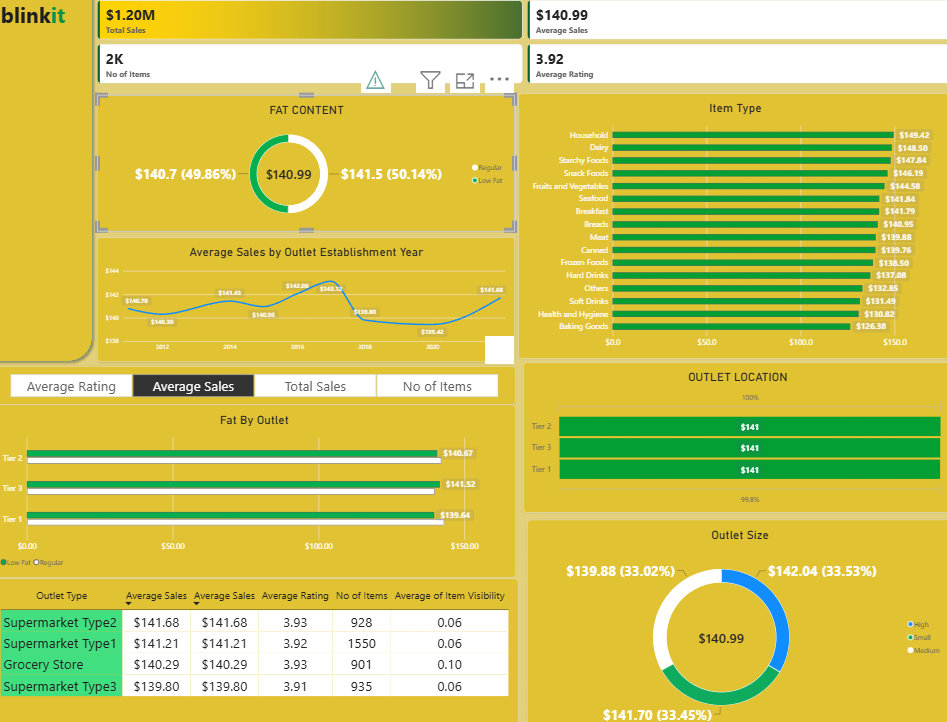

What the dashboard file says about the page in this screenshot:
{"tool":"powerbi","page":{"name":"Page 1","canvas":[1920,1500],"ordinal":0},"visuals":[{"type":"shape","box":[0,0,210,750],"z":0},{"type":"textbox","box":[16.3,16.3,150.2,398.1],"z":1000},{"type":"cardVisual","fields":{"Data":["BlinkIT Grocery Data.Total Sales","BlinkIT Grocery Data.Average Sales","BlinkIT Grocery Data.No of Items","BlinkIT Grocery Data.Average Rating","BlinkIT Grocery Data.Average Sales"]},"box":[209.9,16.3,1713.7,168.3],"z":2000},{"type":"donutChart","title":"FAT CONTENT","fields":{"Category":["BlinkIT Grocery Data.Item Fat Content"],"Y":["BlinkIT Grocery Data.Average Sales"]},"box":[209.6,208.1,837,274.6],"z":3000},{"type":"clusteredBarChart","title":"Item Type","fields":{"Category":["BlinkIT Grocery Data.Item Type"],"Y":["BlinkIT Grocery Data.Average Sales"]},"box":[1052.5,205,867.5,530],"z":4000},{"type":"clusteredBarChart","title":"Fat By Outlet","fields":{"Category":["BlinkIT Grocery Data.Outlet Location Type"],"Series":["BlinkIT Grocery Data.Item Fat Content"],"Y":["BlinkIT Grocery Data.Average Sales"]},"box":[0,828.3,1048.3,346.7],"z":5000},{"type":"lineChart","fields":{"Category":["BlinkIT Grocery Data.Outlet Establishment Year"],"Y":["BlinkIT Grocery Data.Average Sales"]},"box":[209.9,492.2,836.1,249.7],"z":6000},{"type":"donutChart","title":"Outlet Size","fields":{"Category":["BlinkIT Grocery Data.Outlet Size"],"Y":["BlinkIT Grocery Data.Average Sales"]},"box":[1070,1056.7,851.7,428.3],"z":7000},{"type":"funnel","title":"OUTLET LOCATION","fields":{"Category":["BlinkIT Grocery Data.Outlet Location Type"],"Y":["BlinkIT Grocery Data.Average Sales"]},"box":[1063.3,743.3,856.7,300.7],"z":8000},{"type":"tableEx","fields":{"Values":["BlinkIT Grocery Data.Outlet Type","BlinkIT Grocery Data.Average Sales","BlinkIT Grocery Data.Average Sales","BlinkIT Grocery Data.Average Rating","BlinkIT Grocery Data.No of Items","Avg(BlinkIT Grocery Data.Item Visibility)"]},"box":[0,1175,1052.5,325],"z":9000},{"type":"slicer","fields":{"Values":["Parameter 2.Parameter"]},"box":[0,750,1047.5,77.5],"z":9005}]}

Visuals, with their boxes in screenshot pixels (x1, y1, x2, y2), scaled from the page's 1920x1500 canvas onto the 947x722 screenshot:
shape: crop(0, 0, 104, 361)
textbox: crop(8, 8, 82, 199)
cardVisual - BlinkIT Grocery Data.Total Sales x BlinkIT Grocery Data.Average Sales: crop(104, 8, 946, 89)
"FAT CONTENT" donutChart: crop(103, 100, 516, 232)
"Item Type" clusteredBarChart: crop(519, 99, 946, 354)
"Fat By Outlet" clusteredBarChart: crop(0, 399, 517, 566)
lineChart - BlinkIT Grocery Data.Outlet Establishment Year x BlinkIT Grocery Data.Average Sales: crop(104, 237, 516, 357)
"Outlet Size" donutChart: crop(528, 509, 946, 715)
"OUTLET LOCATION" funnel: crop(524, 358, 946, 503)
tableEx - BlinkIT Grocery Data.Outlet Type x BlinkIT Grocery Data.Average Sales: crop(0, 566, 519, 721)
slicer - Parameter 2.Parameter: crop(0, 361, 517, 398)
